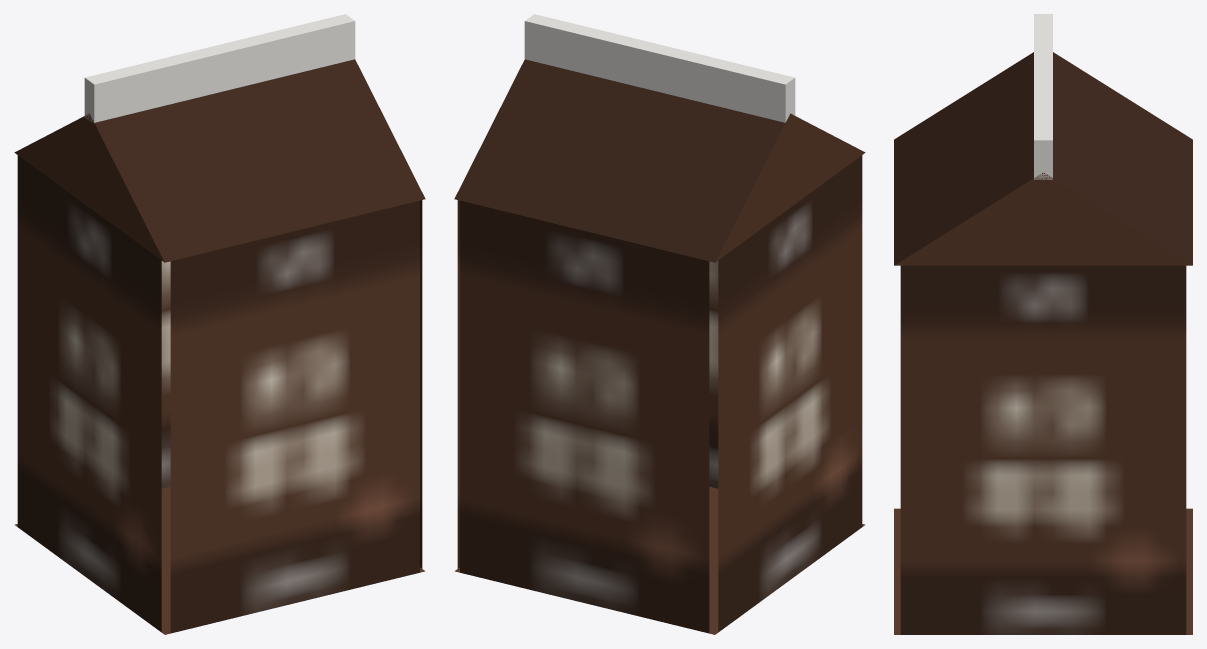
The model's file is SC_Prod_Milk_Carton_200_Choco.gltf.
The picture shows the model from 3 angles, left to right: view 1: azimuth 30°, elevation 25°; view 2: azimuth 150°, elevation 25°; view 3: azimuth 270°, elevation 25°; orthographic projection.
Visible parts, largest first — view 1: SC_Prod_Milk_Carton_200_Choco; view 2: SC_Prod_Milk_Carton_200_Choco; view 3: SC_Prod_Milk_Carton_200_Choco.
Part boxes in pixels (left/top/right/bottom): SC_Prod_Milk_Carton_200_Choco: left=14, top=14, right=425, bottom=634; SC_Prod_Milk_Carton_200_Choco: left=454, top=14, right=865, bottom=634; SC_Prod_Milk_Carton_200_Choco: left=894, top=14, right=1192, bottom=634.
Bounding box in the file's own units: 0.055 × 0.1005 × 0.055.
2 materials, 2 textured.
